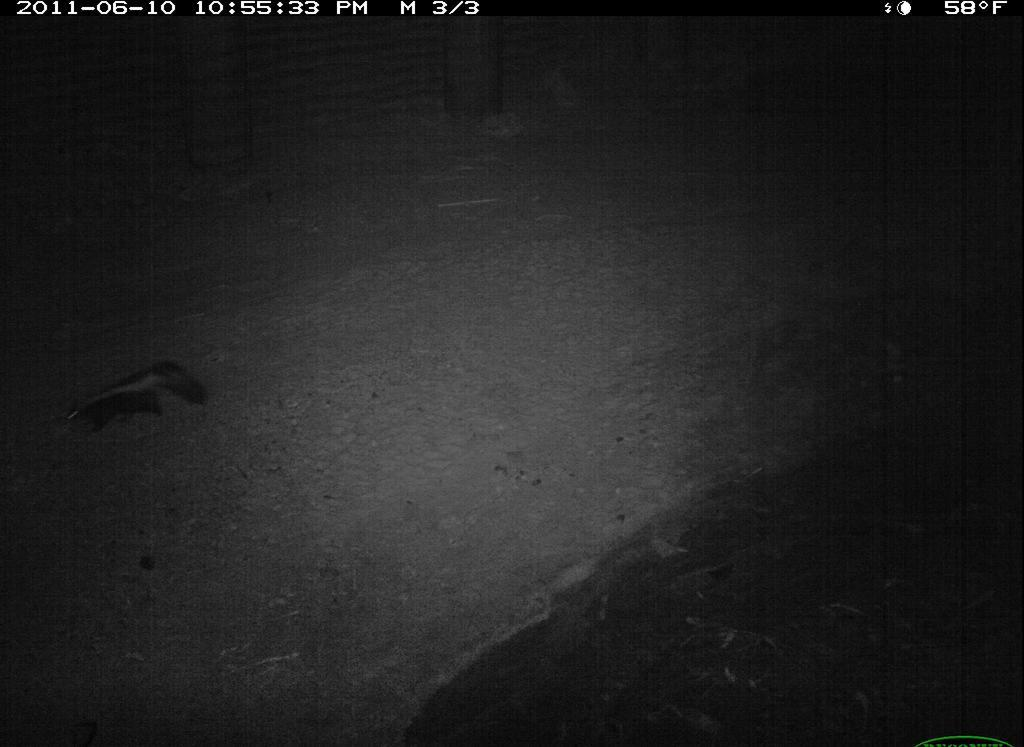skunk: (58, 358, 219, 441)
